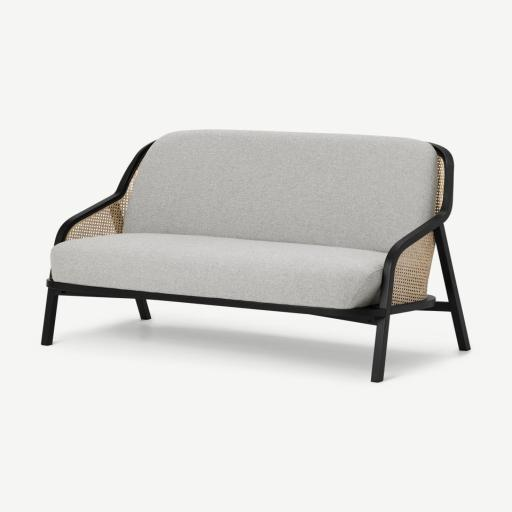back_cushion: (125, 130, 437, 252)
left_arm: (392, 232, 435, 305), (438, 157, 444, 192)
legs: (435, 226, 470, 351), (371, 314, 390, 382), (42, 290, 58, 345), (136, 298, 151, 319)
one-seater: (0, 0, 511, 512)
right_arm: (56, 168, 137, 243)
seat_cushion: (52, 233, 385, 309)
